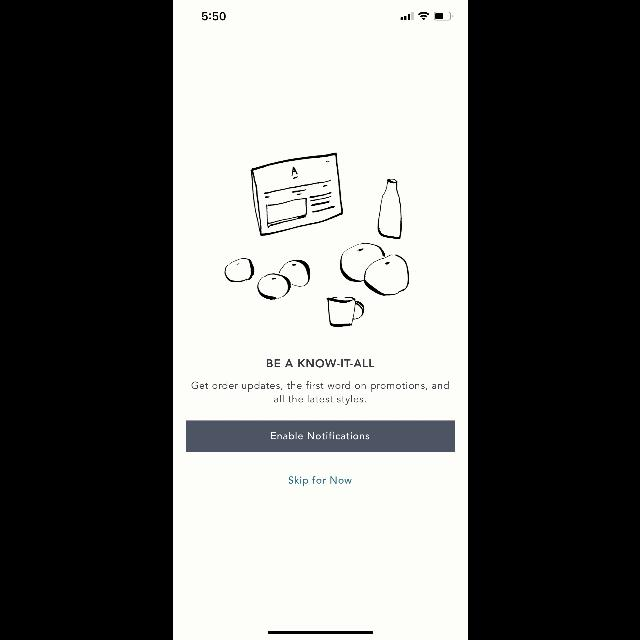image: (224, 153, 408, 327)
text: (192, 382, 448, 404), (266, 359, 374, 367), (288, 476, 352, 486)
textbutton: (185, 421, 455, 452)
uppertaskbar: (202, 12, 452, 21)
